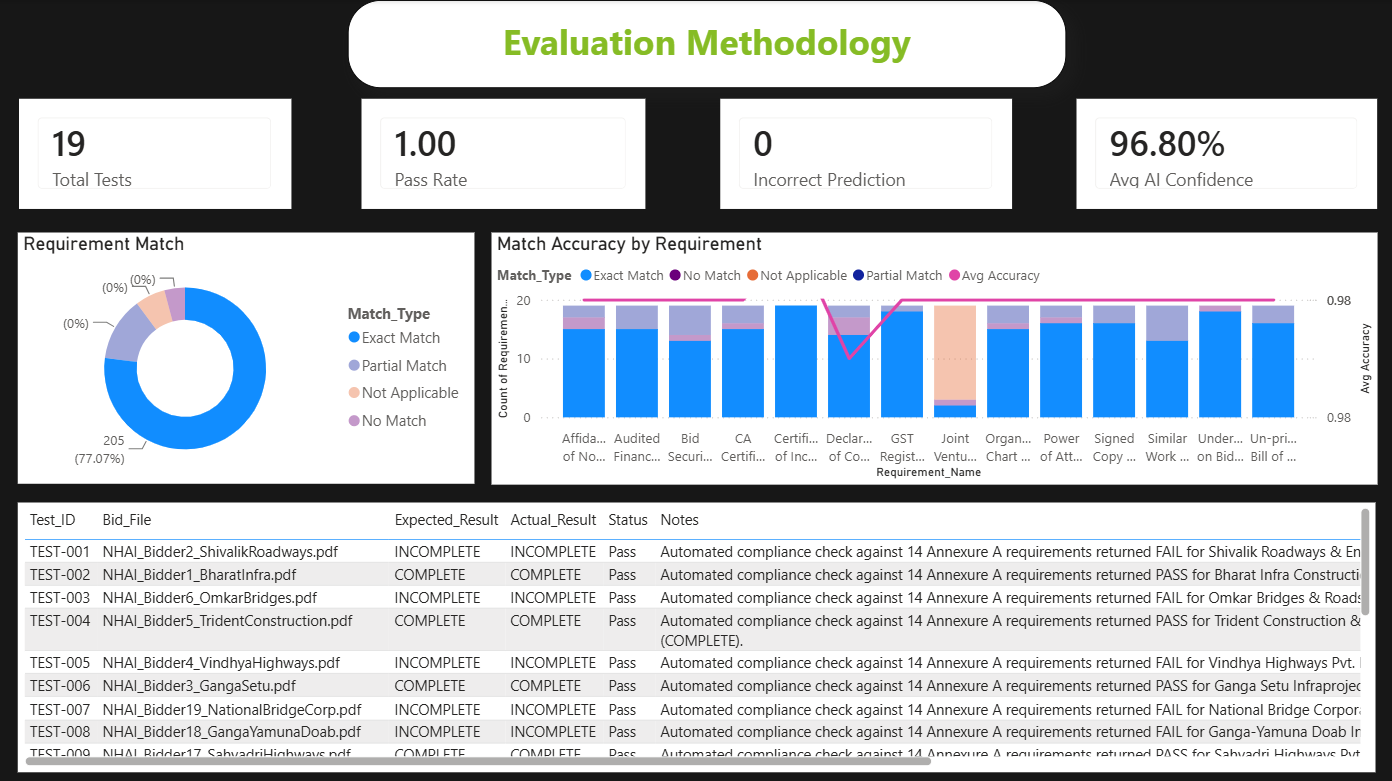

The page's visual inventory and layout, read from the dashboard file:
{"tool":"powerbi","page":{"name":"Evaluation Methodolgy","canvas":[1280,720],"ordinal":3},"visuals":[{"type":"textbox","box":[326,0,651.9,79.8],"z":0},{"type":"cardVisual","fields":{"Data":["04_Testing.Total Tests"]},"box":[27.3,89.3,246.8,99.9],"z":1000},{"type":"cardVisual","fields":{"Data":["04_Testing.Pass Rate %"]},"box":[337.7,89.3,257.4,99.9],"z":2000},{"type":"cardVisual","fields":{"Data":["04_Testing.Incorrect Prediction"]},"box":[663.2,89.3,265,99.9],"z":3000},{"type":"cardVisual","fields":{"Data":["02_Output.Avg AI Confidence"]},"box":[987.3,89.3,272.6,99.9],"z":4000},{"type":"tableEx","fields":{"Values":["04_Testing.Test_ID","04_Testing.Bid_File","04_Testing.Expected_Result","04_Testing.Actual_Result","04_Testing.Status","04_Testing.Notes"]},"box":[26.6,455.7,1232.3,244.5],"z":5000},{"type":"donutChart","title":"Requirement Match","fields":{"Category":["01_Matching.Match_Type"],"Y":["CountNonNull(01_Matching.Requirement_ID)"]},"box":[26.6,211.2,414.1,227.8],"z":6000},{"type":"lineStackedColumnComboChart","title":"Match Accuracy by Requirement","fields":{"Category":["01_Matching.Requirement_Name"],"Series":["01_Matching.Match_Type"],"Y":["CountNonNull(01_Matching.Requirement_ID)"],"Y2":["01_Matching.Avg Accuracy"]},"box":[455.8,210.5,804,228.6],"z":7000}]}

Visuals, with their boxes in screenshot pixels (x1, y1, x2, y2), scaled from the page's 1280x720 canvas onto the 1392x781 screenshot:
textbox: locate(355, 0, 1063, 87)
cardVisual - 04_Testing.Total Tests: locate(30, 97, 298, 205)
cardVisual - 04_Testing.Pass Rate %: locate(367, 97, 647, 205)
cardVisual - 04_Testing.Incorrect Prediction: locate(721, 97, 1009, 205)
cardVisual - 02_Output.Avg AI Confidence: locate(1074, 97, 1370, 205)
tableEx - 04_Testing.Test_ID x 04_Testing.Bid_File: locate(29, 494, 1369, 760)
"Requirement Match" donutChart: locate(29, 229, 479, 476)
"Match Accuracy by Requirement" lineStackedColumnComboChart: locate(496, 228, 1370, 476)
